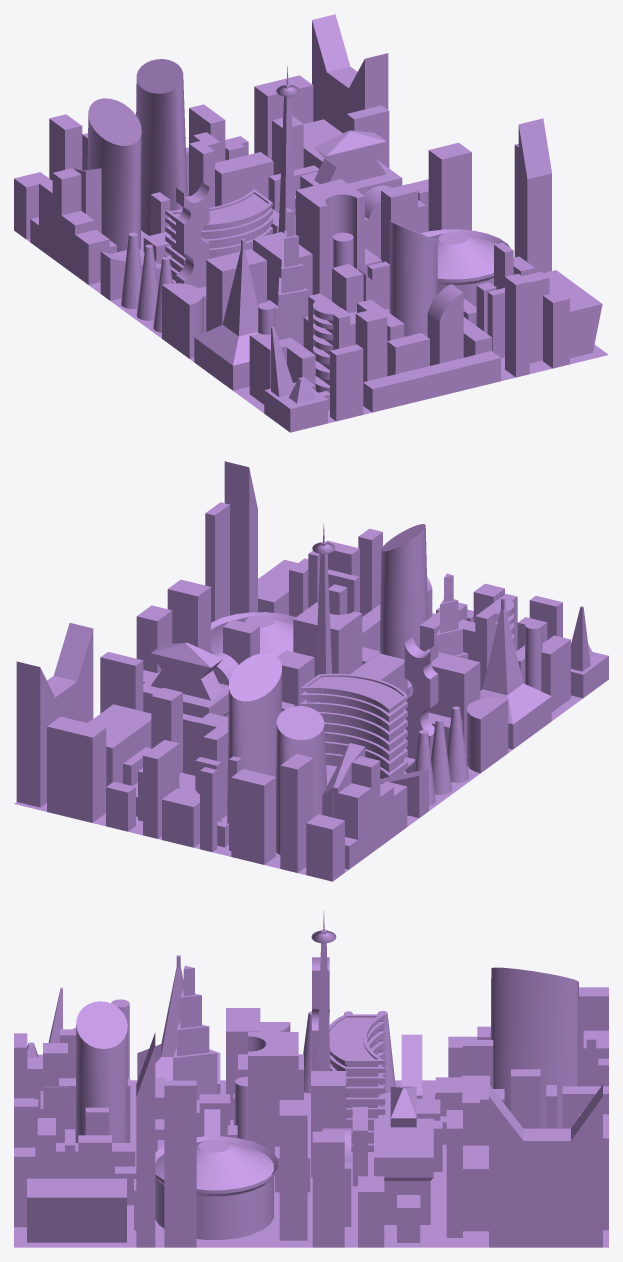
Rendered from scene_VtHLMiRa7T.glb.
The picture shows the model from 3 angles, top to bottom: view 1: azimuth 30°, elevation 25°; view 2: azimuth 150°, elevation 25°; view 3: azimuth 270°, elevation 25°; orthographic projection. The views are drawn at different scales.
Visible parts, largest first — view 1: Mesh2 Component_1_1 Model; view 2: Mesh2 Component_1_1 Model; view 3: Mesh2 Component_1_1 Model.
Boxes of the visible parts, bbox=[...] form: Mesh2 Component_1_1 Model: bbox=[14, 14, 608, 432]; Mesh2 Component_1_1 Model: bbox=[14, 461, 608, 881]; Mesh2 Component_1_1 Model: bbox=[14, 910, 608, 1247].
Size of the model in its own units: 26.32 by 17.9 by 39.51.
